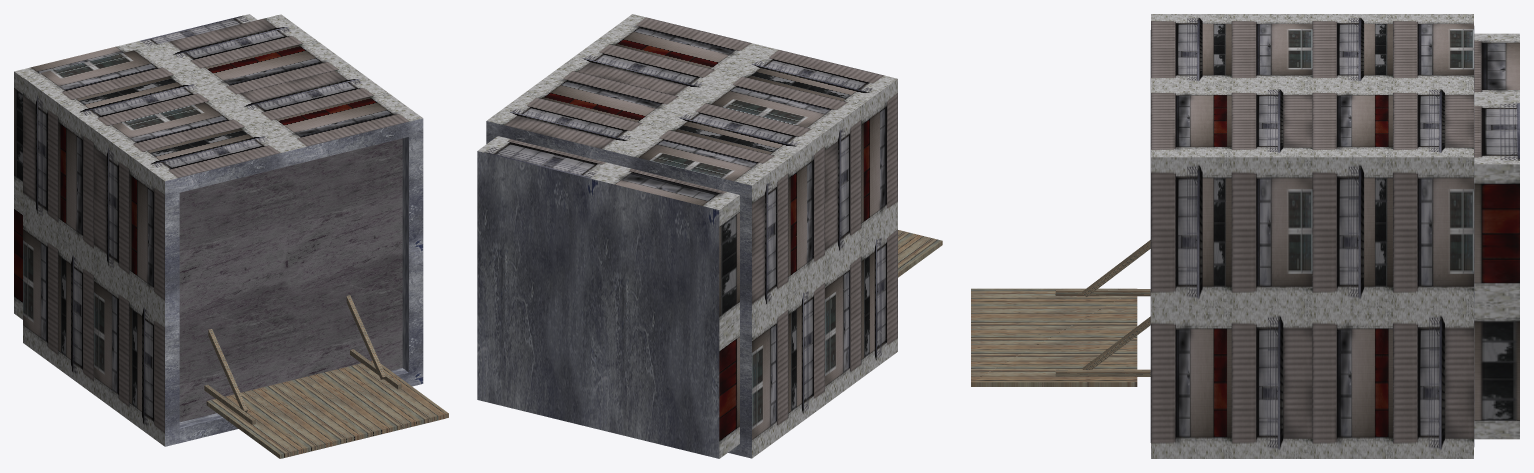
The model's file is urbanwood01b_wtf.obj.
3 views of the same model, side by side, from view 1: azimuth 30°, elevation 25°; view 2: azimuth 150°, elevation 25°; view 3: azimuth 270°, elevation 25° (orthographic). The views are drawn at different scales.
Parts seen in each view (by area): view 1: group5, group4, group8, group3; view 2: group5, group3, group8; view 3: group5, group8, group3.
Boxes of the visible parts, box(x1,y1,x2,y2) form: group5: box(14, 14, 422, 446); group4: box(179, 138, 402, 422); group8: box(204, 295, 448, 458); group3: box(165, 118, 423, 446); group5: box(478, 14, 897, 458); group3: box(477, 121, 751, 458); group8: box(898, 230, 942, 277); group5: box(1151, 14, 1519, 458); group8: box(971, 240, 1150, 386); group3: box(1150, 26, 1474, 446).
Size of the model in its own units: 408 by 400 by 660.
